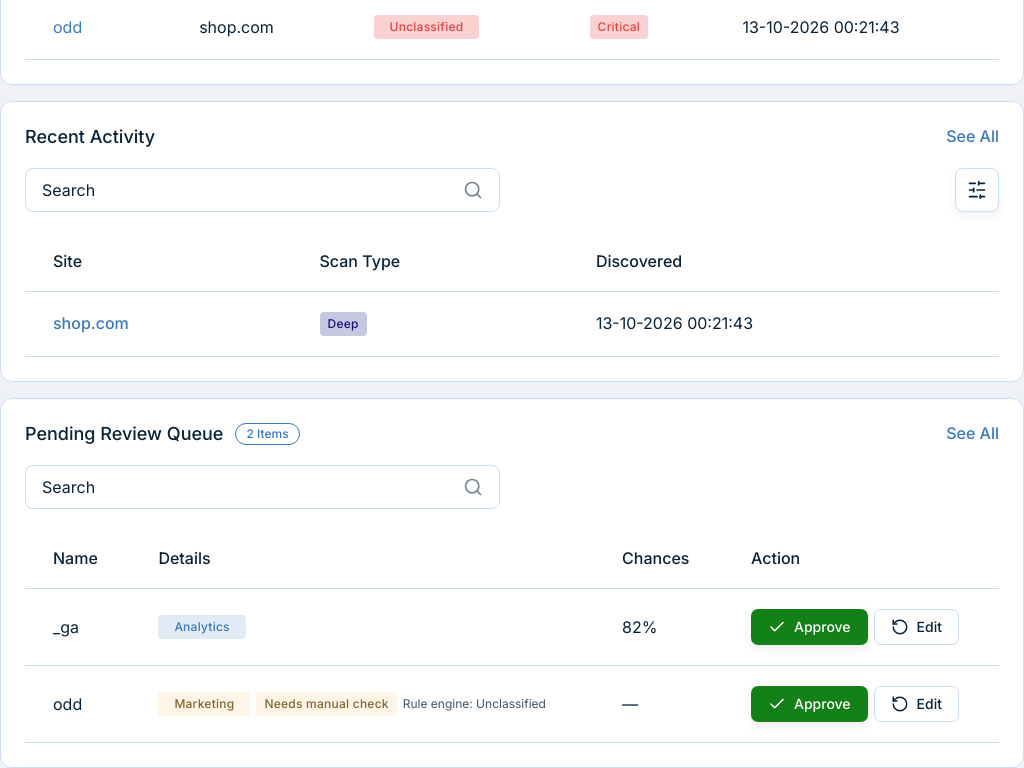
Test case: DashboardPage › shows an inline error when the approval cannot be saved (8A)
(page scrolled)
Click the button with aria-label "Approve _ga" at (809, 627), box [751,609,868,645]
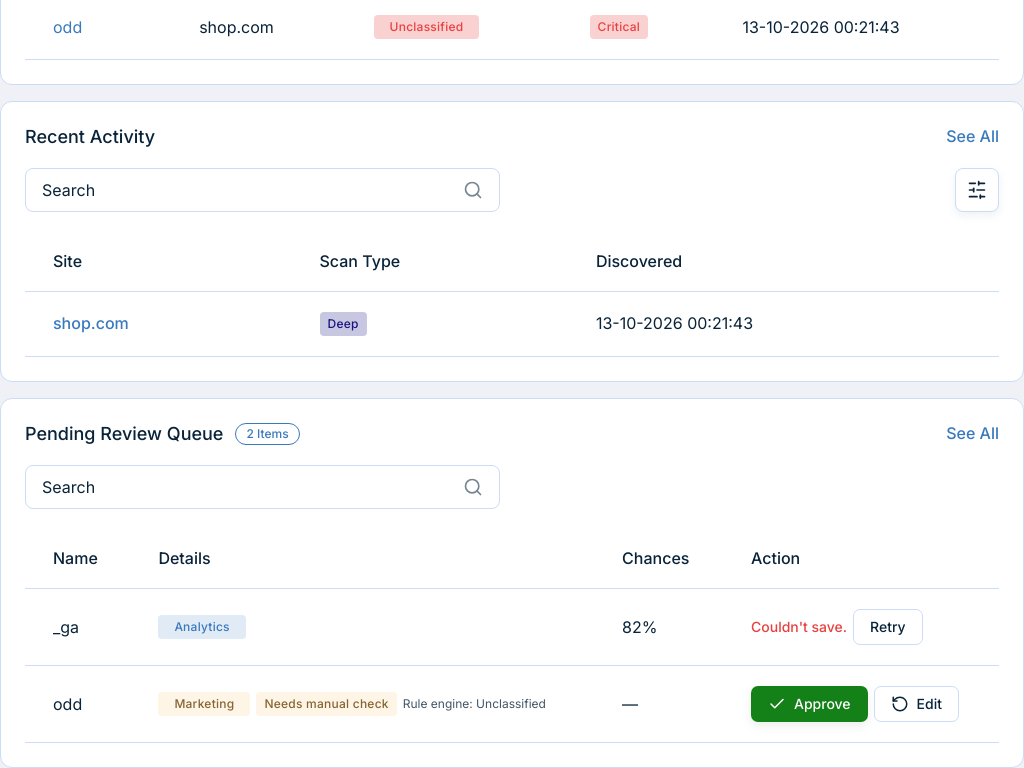
Expected: the text "Couldn't save." is shown, [751,618,847,636]
